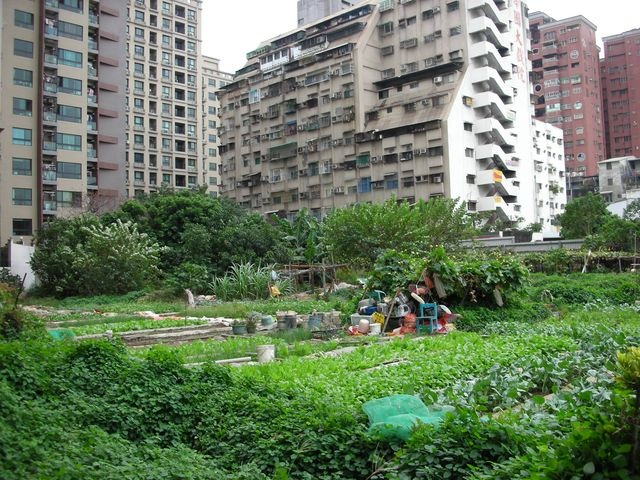bucket: (254, 343, 277, 365), (367, 321, 382, 339), (356, 316, 369, 335)
